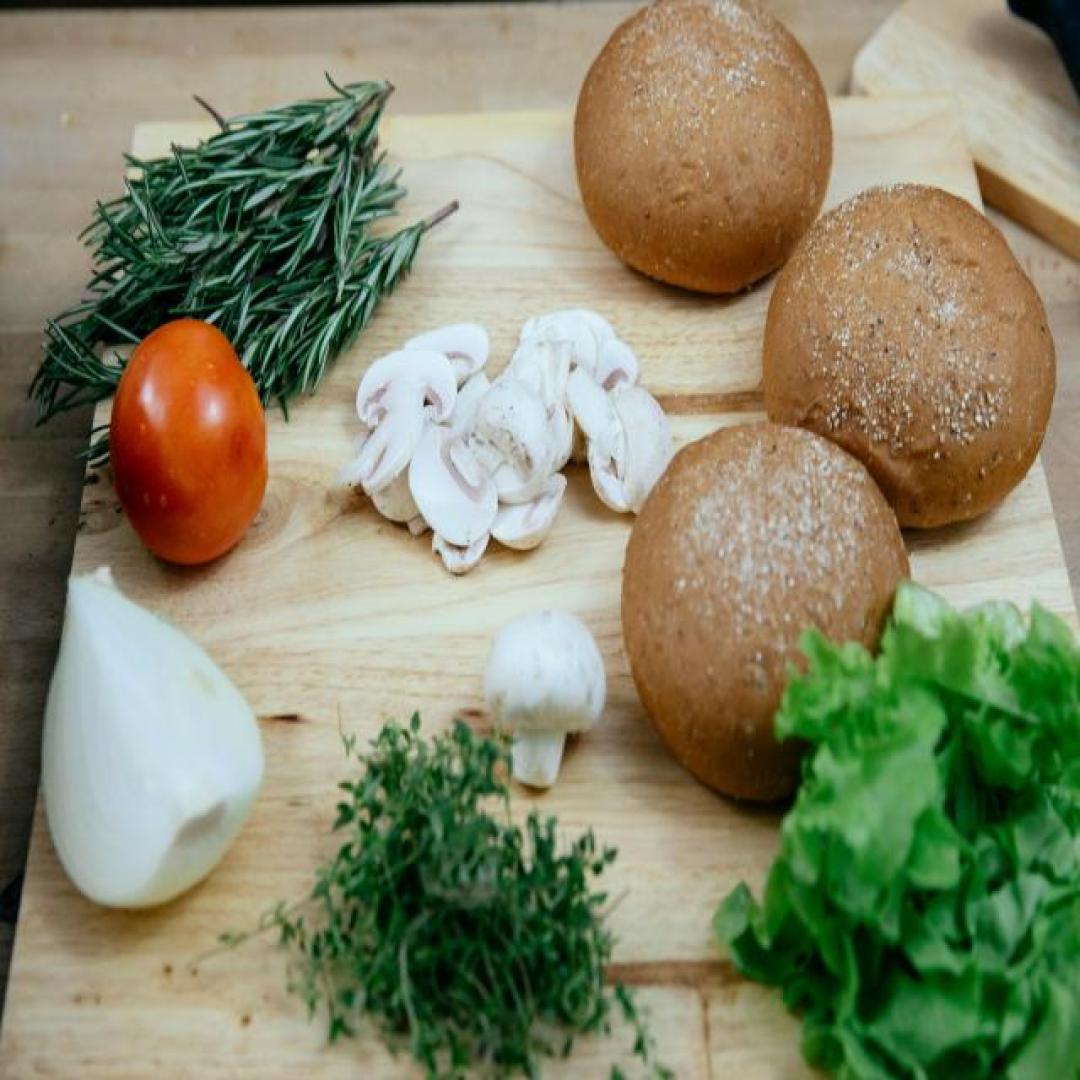matang: (110, 316, 270, 570)
